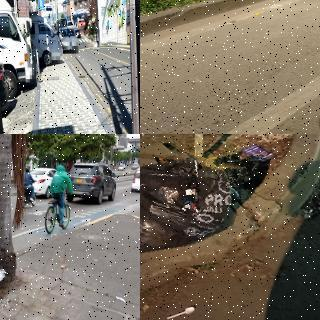Garbage: (140, 147, 241, 275), (0, 257, 12, 312)
